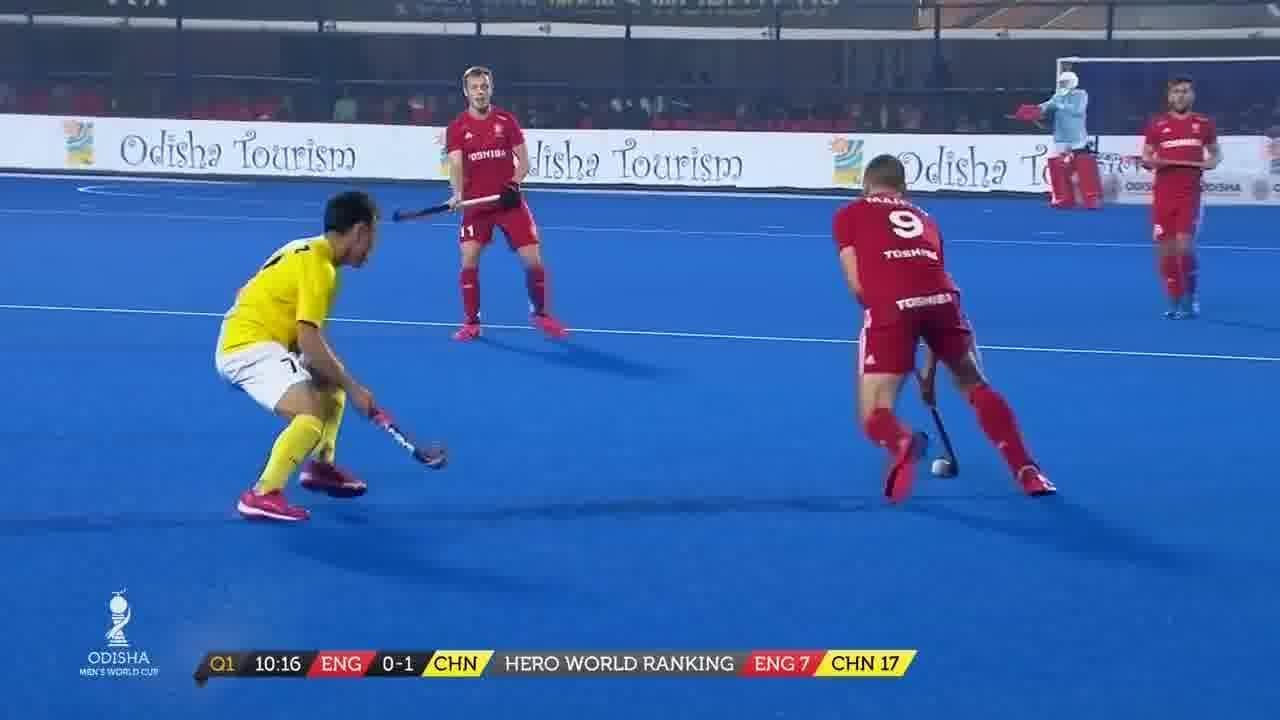ball: (926, 448, 957, 487)
